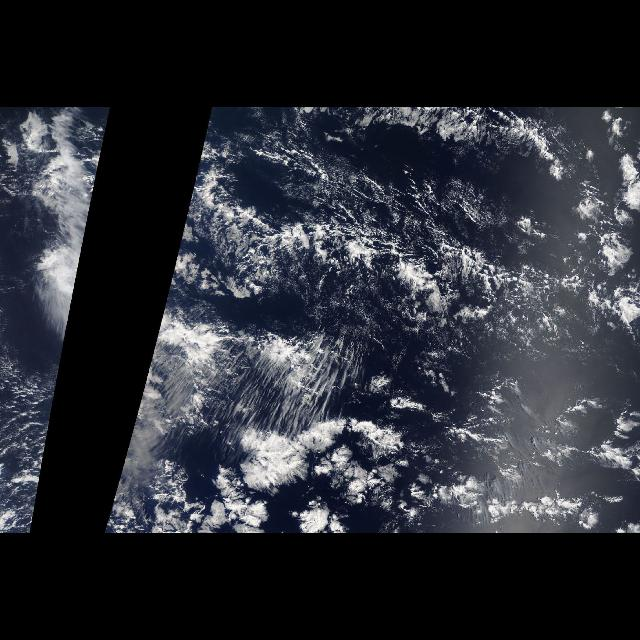Fish: (192, 171, 466, 333)
Gravel: (204, 180, 558, 326), (379, 361, 639, 533)
Sugar: (338, 154, 504, 228)
